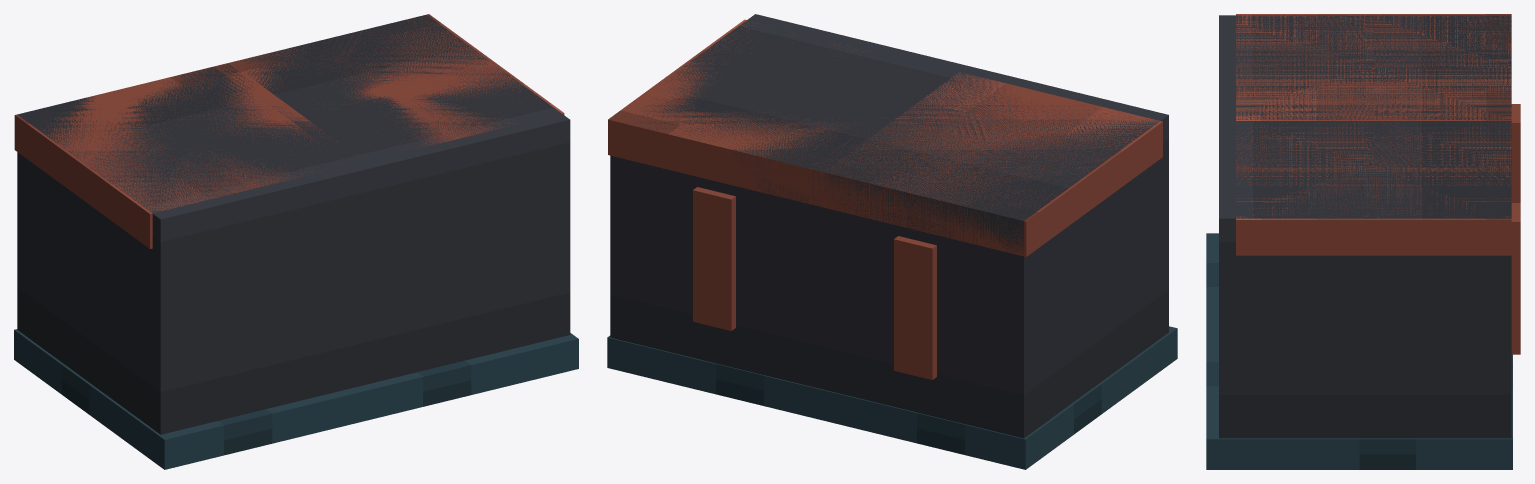
File: jindan_jinwu_boots.obj
3 views of the same model, side by side, from view 1: azimuth 30°, elevation 25°; view 2: azimuth 150°, elevation 25°; view 3: azimuth 270°, elevation 25° (orthographic).
Visible parts, largest first — view 1: sun_boot_-1, sun_boot_1, boot_rim_-1, boot_sole_-1, boot_rim_1, boot_sole_1; view 2: sun_boot_-1, sun_boot_1, boot_rim_-1, boot_rim_1, boot_sole_-1, boot_sole_1, heel_mark_-1, heel_mark_1; view 3: sun_boot_1, sun_boot_-1, boot_rim_-1, boot_rim_1, boot_sole_1, heel_mark_1, boot_sole_-1, heel_mark_-1.
Boxes of the visible parts, x1,y1,x2,y2 form: sun_boot_-1: (17, 63, 371, 434); sun_boot_1: (239, 14, 570, 383); boot_rim_-1: (14, 63, 356, 248); boot_sole_-1: (14, 329, 379, 469); boot_rim_1: (214, 14, 564, 149); boot_sole_1: (358, 333, 578, 421); sun_boot_-1: (811, 64, 1168, 438); sun_boot_1: (610, 14, 967, 386); boot_rim_-1: (809, 72, 1162, 256); boot_rim_1: (608, 19, 940, 203); boot_sole_-1: (808, 326, 1177, 469); boot_sole_1: (607, 335, 824, 416); heel_mark_-1: (894, 236, 936, 379); heel_mark_1: (693, 187, 735, 330); sun_boot_1: (1219, 120, 1511, 438); sun_boot_-1: (1219, 15, 1511, 119); boot_rim_-1: (1236, 14, 1511, 120); boot_rim_1: (1236, 121, 1511, 255); boot_sole_1: (1206, 340, 1512, 469); heel_mark_1: (1511, 203, 1520, 354); boot_sole_-1: (1206, 233, 1218, 340); heel_mark_-1: (1511, 104, 1520, 202).
Bounding box in the file's own units: 0.5412 × 0.3063 × 0.3491.
